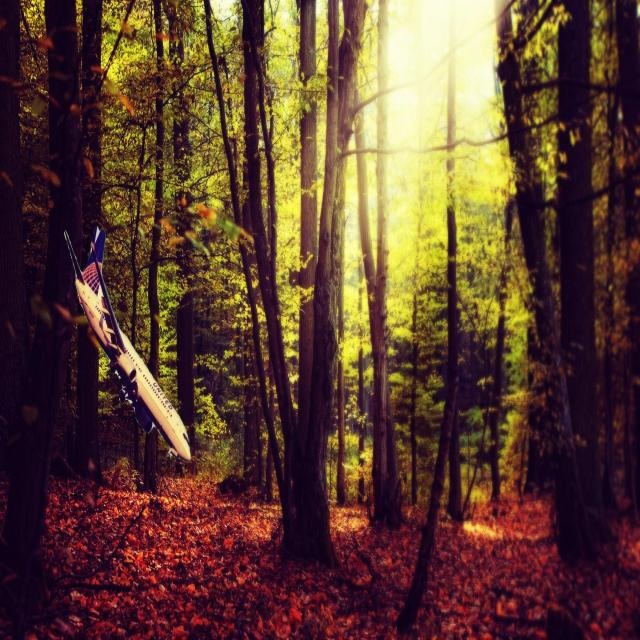airplane: (63, 224, 192, 463)
